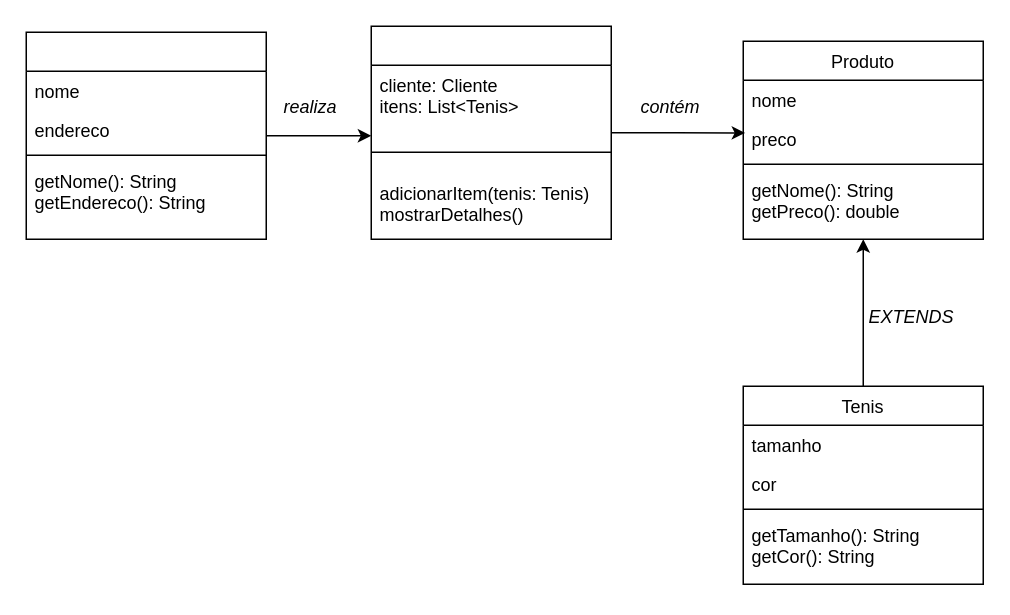
The diagram is 1010 pixels wide and 615 high, and some of its shapes have lost their labels. The shapes that lost their labels are listed below. From the top down, each one's box as (x1, y1, x2, y2) in pixels, then its label:
(25, 31, 266, 239): Cliente
(370, 25, 611, 239): Pedido
